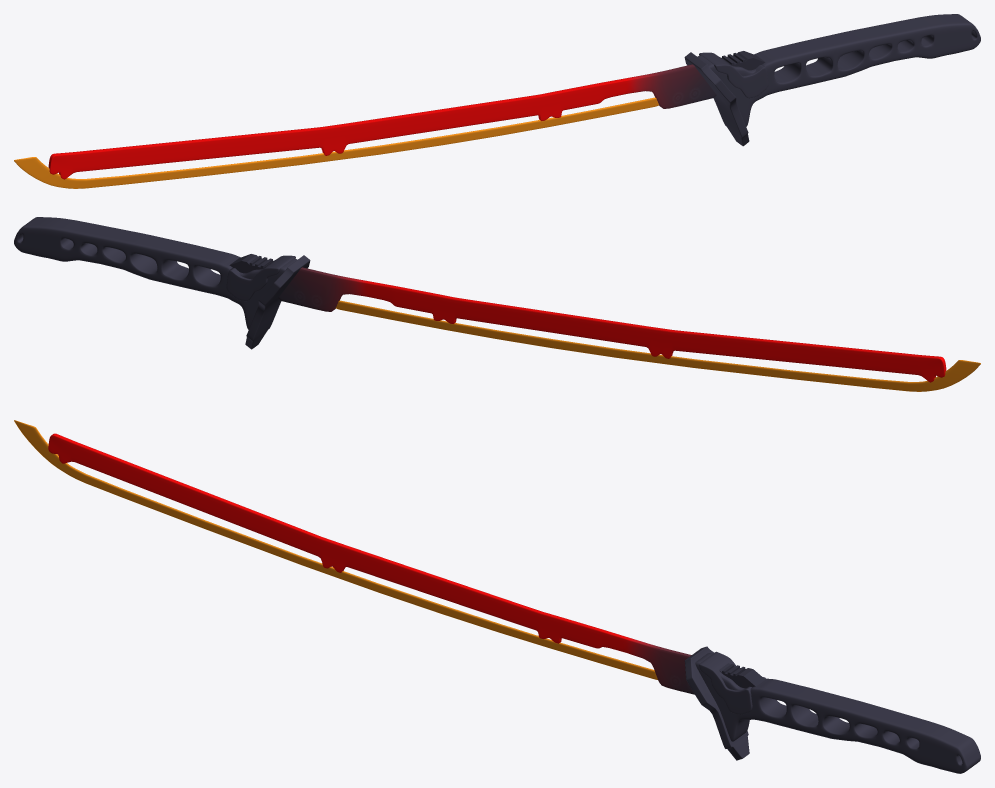
File: dao.fbx
The picture shows the model from 3 angles, top to bottom: view 1: azimuth 30°, elevation 25°; view 2: azimuth 150°, elevation 25°; view 3: azimuth 330°, elevation 25°; orthographic projection.
Parts seen in each view (by area): view 1: polySurface3; view 2: polySurface3; view 3: polySurface3.
Boxes of the visible parts, x1,y1,x2,y2 form: polySurface3: [14, 14, 980, 188]; polySurface3: [14, 217, 980, 391]; polySurface3: [14, 420, 980, 773].
Bounding box in the file's own units: 30.95 × 4.96 × 1.6.
Materials: 1 (1 with a texture image).
